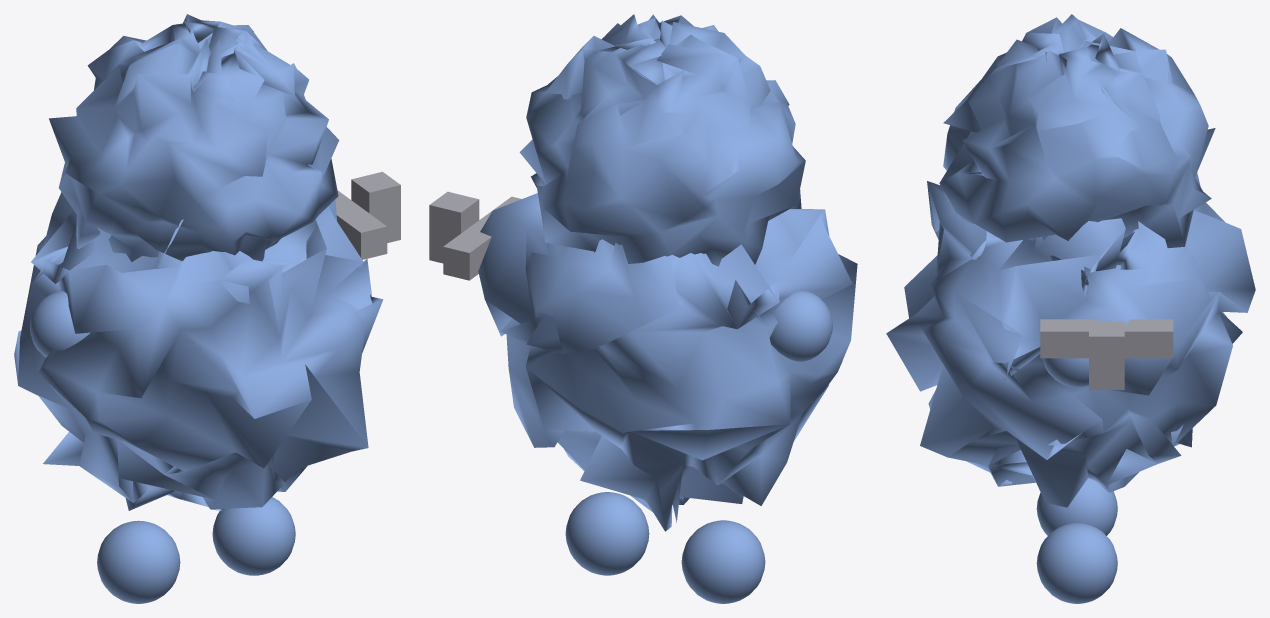
Rendered from clay_plumber_wrench.glb.
3 renders of one model, left to right at view 1: azimuth 30°, elevation 25°; view 2: azimuth 150°, elevation 25°; view 3: azimuth 270°, elevation 25°, orthographic. The views are drawn at different scales.
Parts seen in each view (by area): view 1: jaw; view 2: jaw; view 3: jaw.
Part boxes in pixels (x1=…): jaw: x1=14, y1=14, x2=400, y2=603; jaw: x1=429, y1=14, x2=857, y2=603; jaw: x1=886, y1=14, x2=1255, y2=603.
Size of the model in its own units: 1.44 by 2.02 by 1.25.
